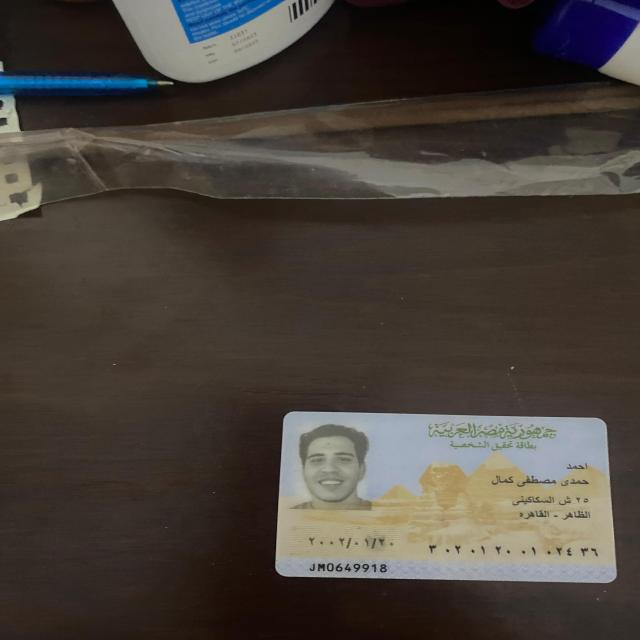id_card: (269, 407, 624, 596)
